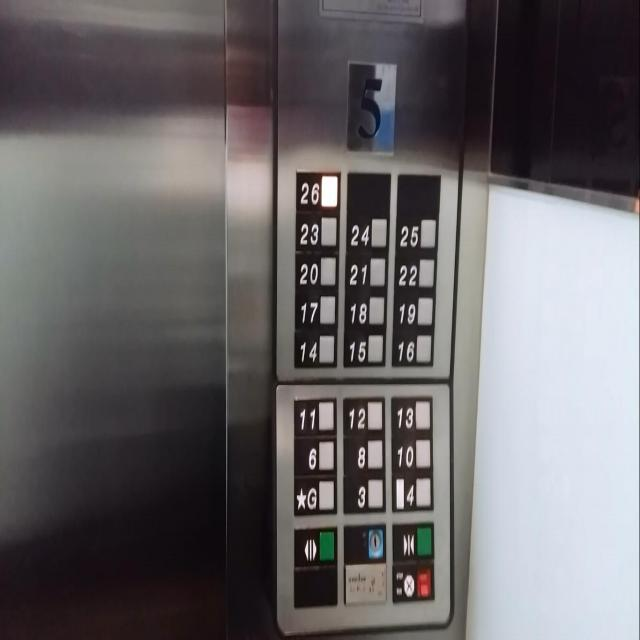10: (388, 430, 434, 472)
11: (292, 393, 338, 436)
12: (341, 392, 387, 436)
13: (388, 392, 434, 434)
14: (292, 328, 338, 369)
15: (340, 326, 388, 367)
16: (389, 324, 436, 368)
17: (292, 292, 340, 332)
18: (342, 288, 389, 330)
19: (390, 289, 438, 328)
20: (292, 252, 340, 293)
21: (342, 249, 390, 293)
22: (391, 251, 439, 290)
23: (293, 211, 341, 254)
24: (343, 212, 391, 252)
25: (392, 211, 441, 252)
26: (294, 168, 341, 212)
3: (341, 473, 387, 516)
4: (390, 469, 436, 513)
6: (292, 434, 338, 480)
8: (341, 431, 386, 475)
bt_keyhole: (341, 521, 388, 564)
close: (390, 519, 435, 562)
open: (292, 524, 339, 568)
sG: (291, 474, 339, 518)
stop: (390, 560, 436, 605)
